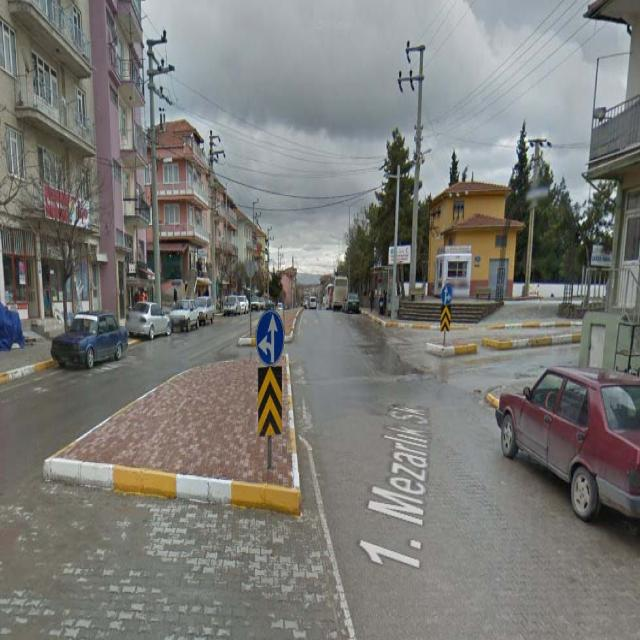ilerisag: (442, 284, 452, 304)
ilerisol: (256, 309, 283, 363)
